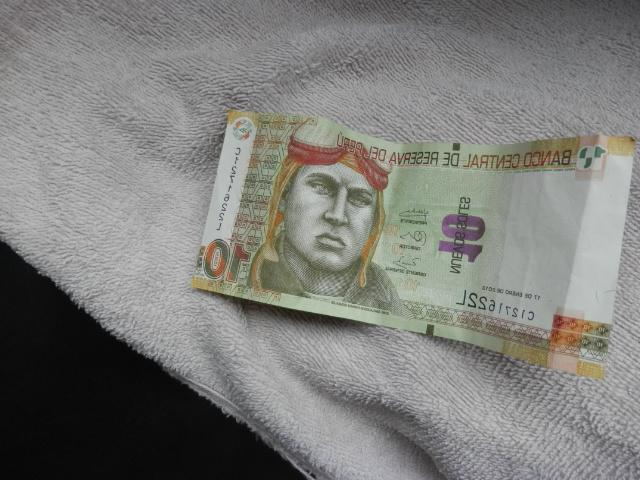B10: (191, 109, 634, 380)
